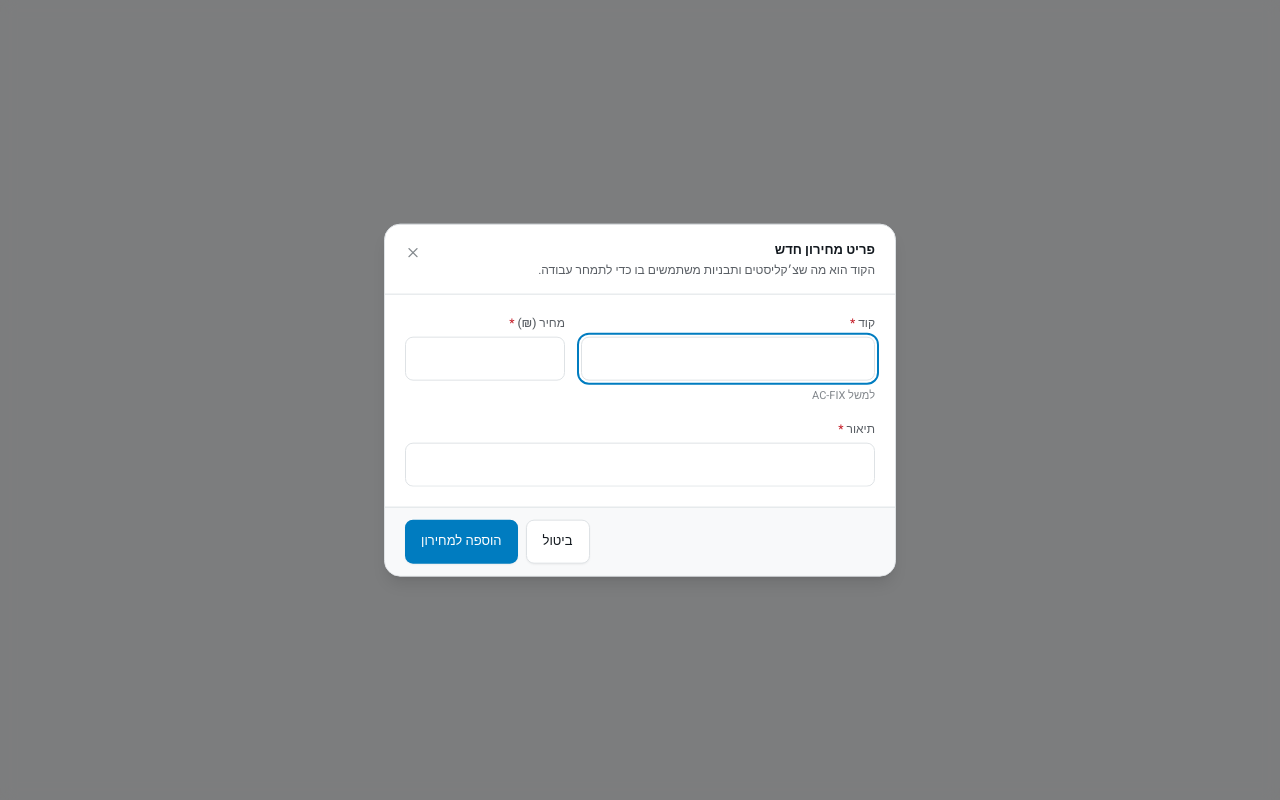
it: PriceItemDialog — create › pins a duplicate-code 409 to the code field, not just a toast
In the field labelled "קוד *": (728, 358) [581,336,875,380], type "DUP"
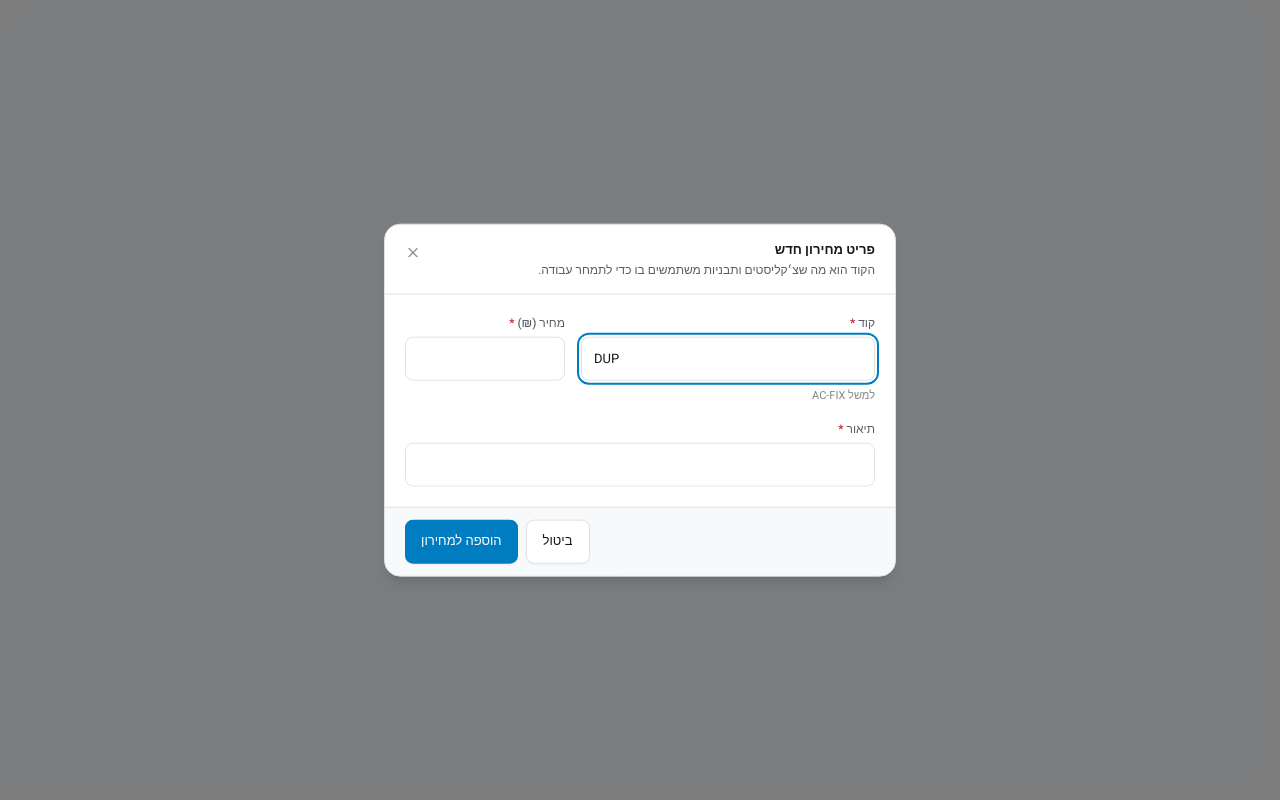
In the field labelled "תיאור *": (640, 464) [405,442,875,486], type "x"
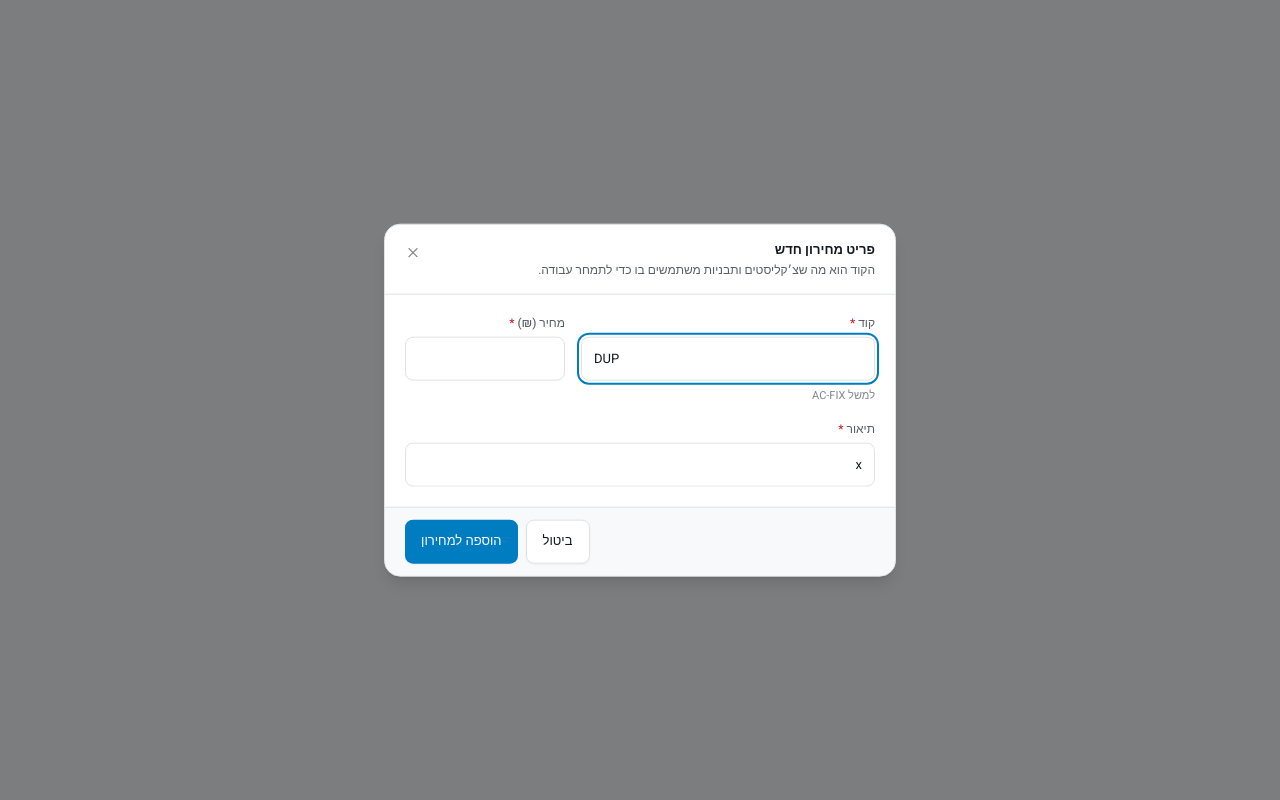
In the field labelled "מחיר (₪) *": (485, 358) [405,336,565,380], type "10"
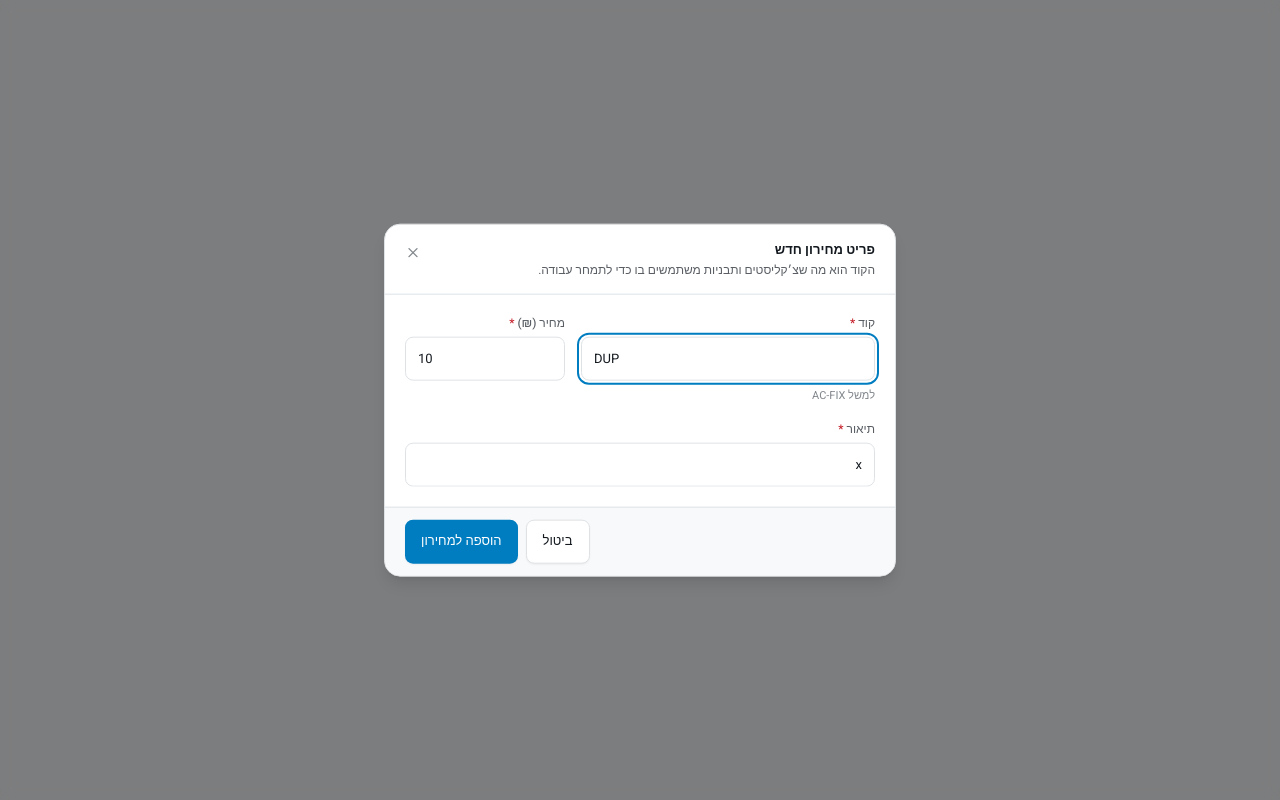
Click the button "הוספה למחירון": (461, 541) [405,519,518,563]
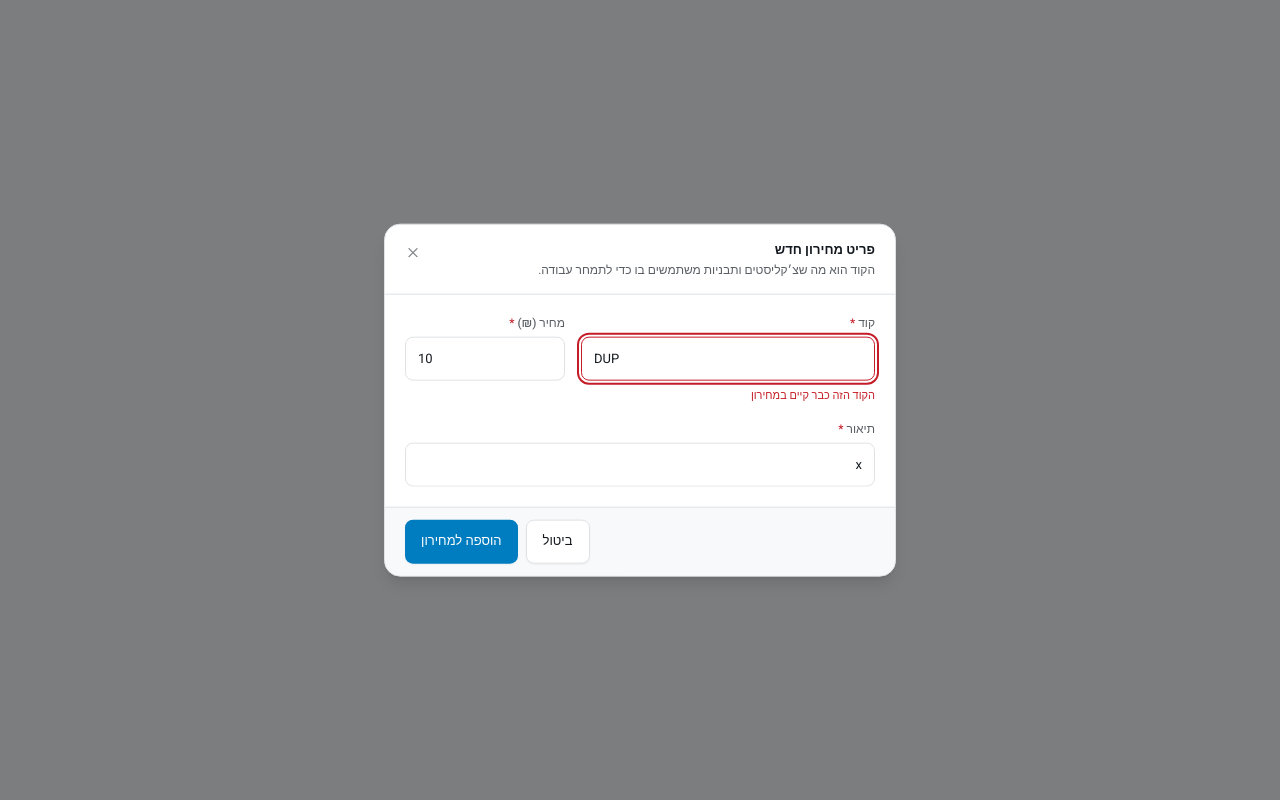
expect the text "הקוד הזה כבר קיים במחירון" is shown: met, box [751,386,875,403]
